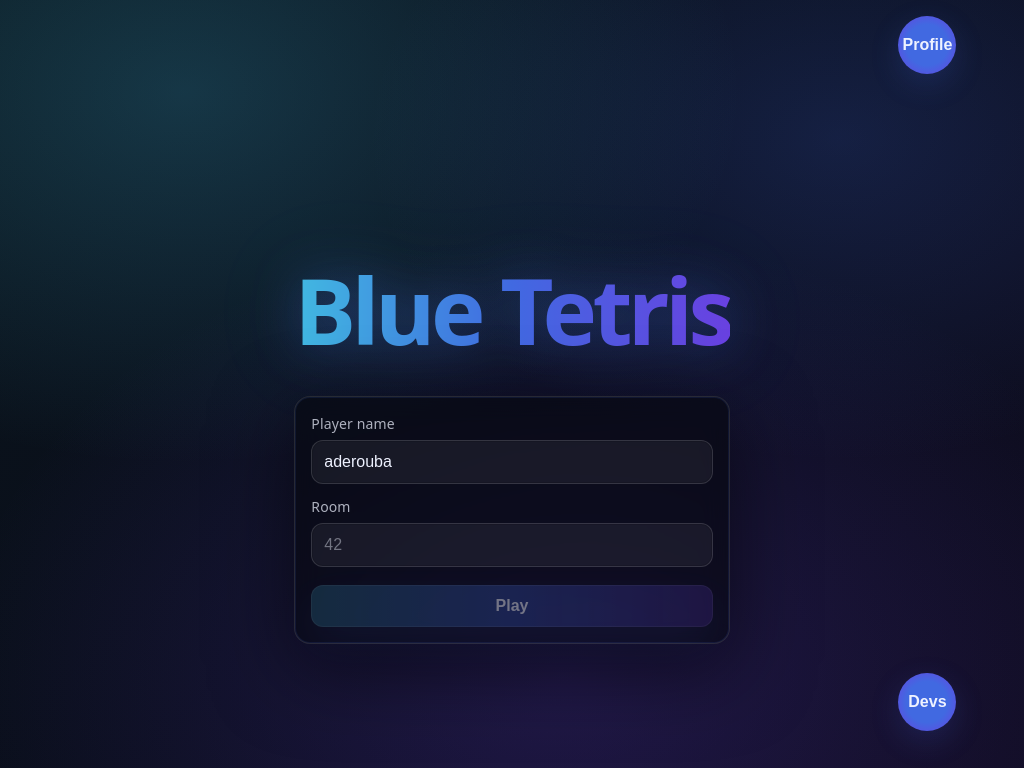
Welcome page › enable Play button
The image size is (1024, 768).
Expected: the button "Play" is disabled, [311, 585, 713, 627]
Step 1. Type "room-1" into the field with placeholder "42" → x=512, y=545, box [311, 523, 713, 567]
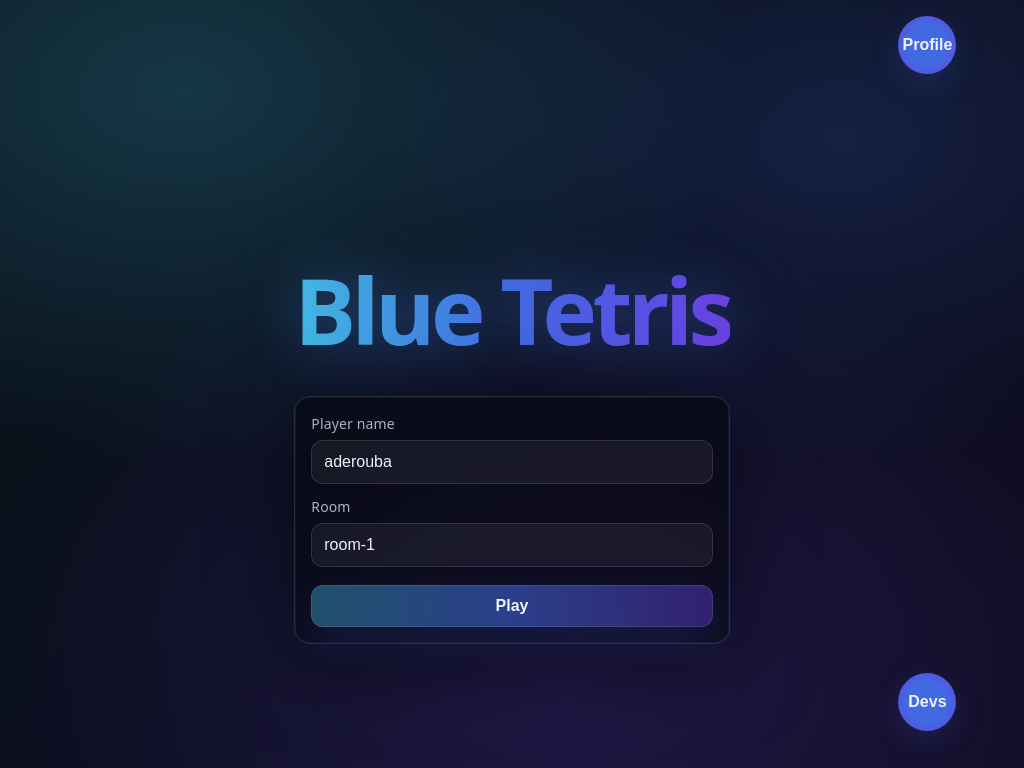
Now the button "Play" is enabled, box [311, 585, 713, 627]
